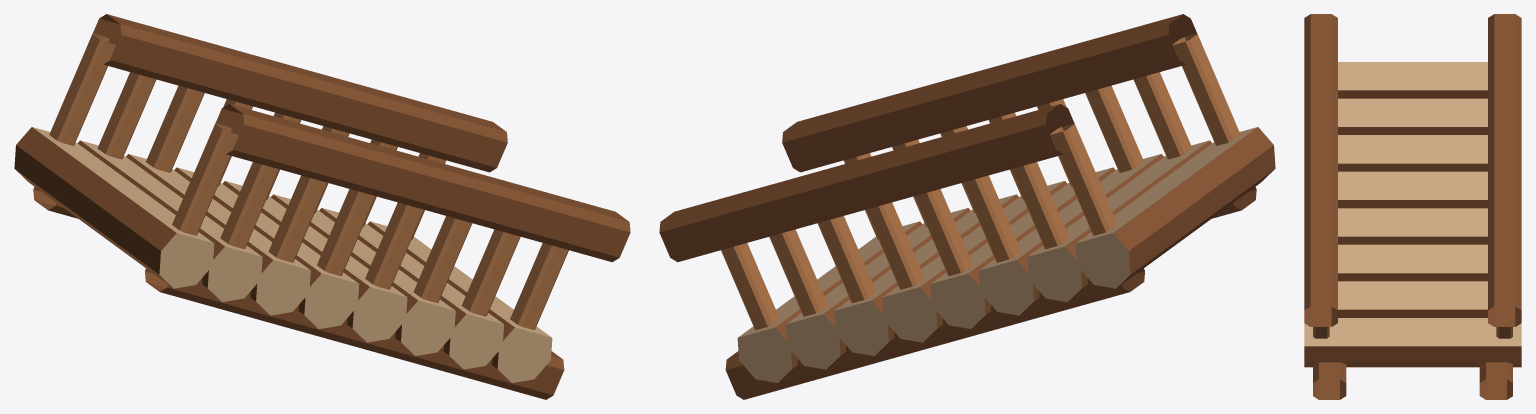
Rendered from Track_Bridge_Incline_Gentle_Floating.obj.
The picture shows the model from 3 angles, left to right: view 1: azimuth 30°, elevation 25°; view 2: azimuth 150°, elevation 25°; view 3: azimuth 270°, elevation 25°; orthographic projection. The views are drawn at different scales.
Visible parts, largest first — view 1: Bridge_Rail, Bridge_Rail_Support, Log_Plank_End, Log_Plank_Bark, Log_Plank_Top, Bridge_Support_Beam; view 2: Bridge_Rail, Bridge_Rail_Support, Log_Plank_End, Log_Plank_Bark, Log_Plank_Top, Bridge_Support_Beam; view 3: Log_Plank_Top, Bridge_Rail, Log_Plank_Bark, Bridge_Support_Beam, Bridge_Rail_Support.
Boxes of the visible parts, x1=… form: Bridge_Rail: x1=93, y1=14, x2=630, y2=262; Bridge_Rail_Support: x1=49, y1=33, x2=568, y2=329; Log_Plank_End: x1=159, y1=233, x2=552, y2=382; Log_Plank_Bark: x1=14, y1=127, x2=514, y2=381; Log_Plank_Top: x1=32, y1=127, x2=551, y2=337; Bridge_Support_Beam: x1=33, y1=187, x2=564, y2=399; Bridge_Rail: x1=659, y1=14, x2=1196, y2=262; Bridge_Rail_Support: x1=721, y1=33, x2=1240, y2=329; Log_Plank_End: x1=737, y1=233, x2=1130, y2=382; Log_Plank_Bark: x1=775, y1=127, x2=1275, y2=381; Log_Plank_Top: x1=738, y1=127, x2=1257, y2=337; Bridge_Support_Beam: x1=725, y1=187, x2=1256, y2=399; Log_Plank_Top: x1=1304, y1=62, x2=1521, y2=346; Bridge_Rail: x1=1304, y1=14, x2=1521, y2=326; Log_Plank_Bark: x1=1304, y1=90, x2=1521, y2=367; Bridge_Support_Beam: x1=1313, y1=362, x2=1512, y2=399; Bridge_Rail_Support: x1=1313, y1=327, x2=1512, y2=338.
Bounding box in the file's own units: 2.46 × 1.81 × 1.3.
